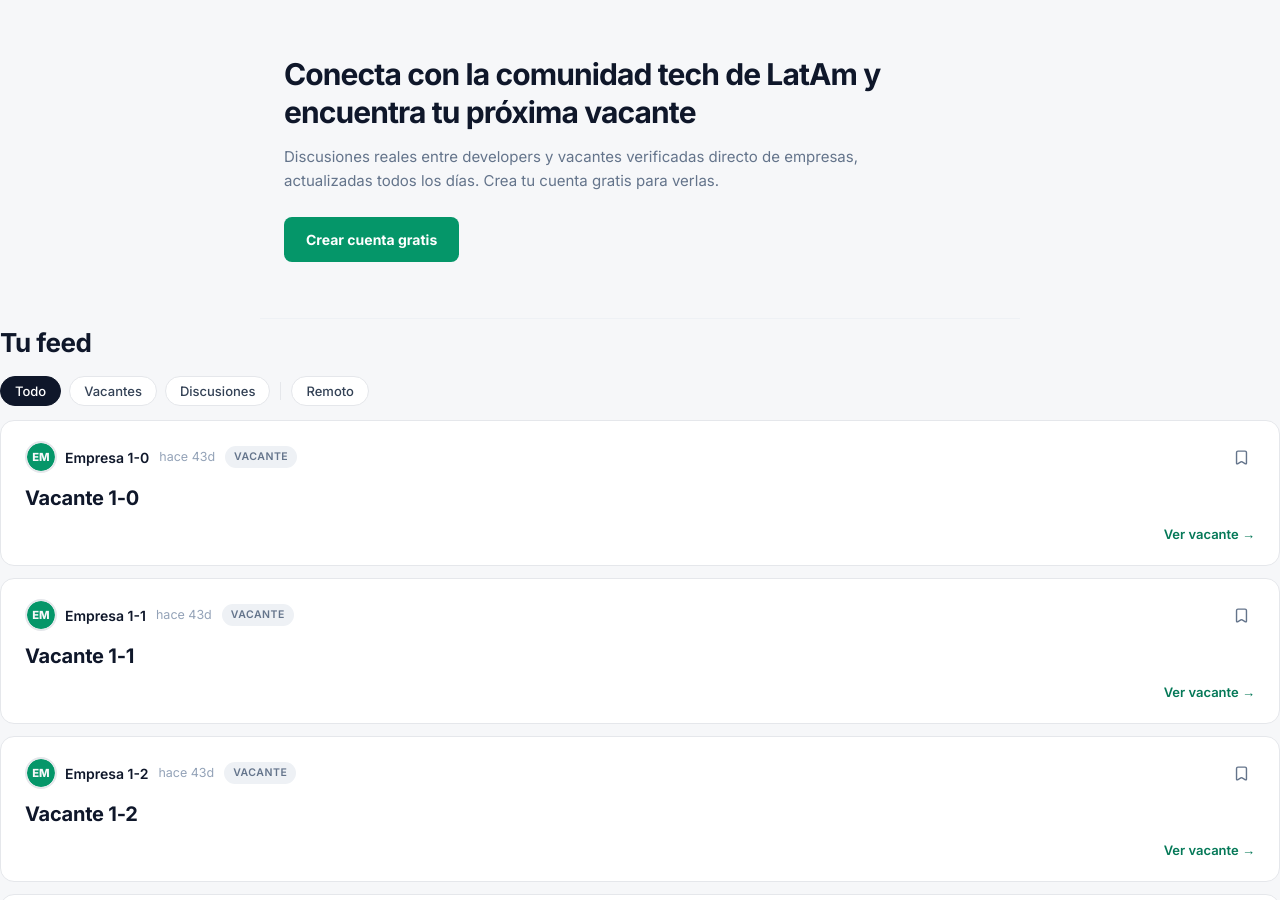
the Discusiones view › does not keep paging through hidden vacancies: it stops and says there is nothing, instead of loading forever
Expected: the heading "Vacante 1-0" is shown, x1=25 y1=486 x2=139 y2=510
Click the button "Discusiones".
click(218, 391)  # box x1=165 y1=376 x2=270 y2=406
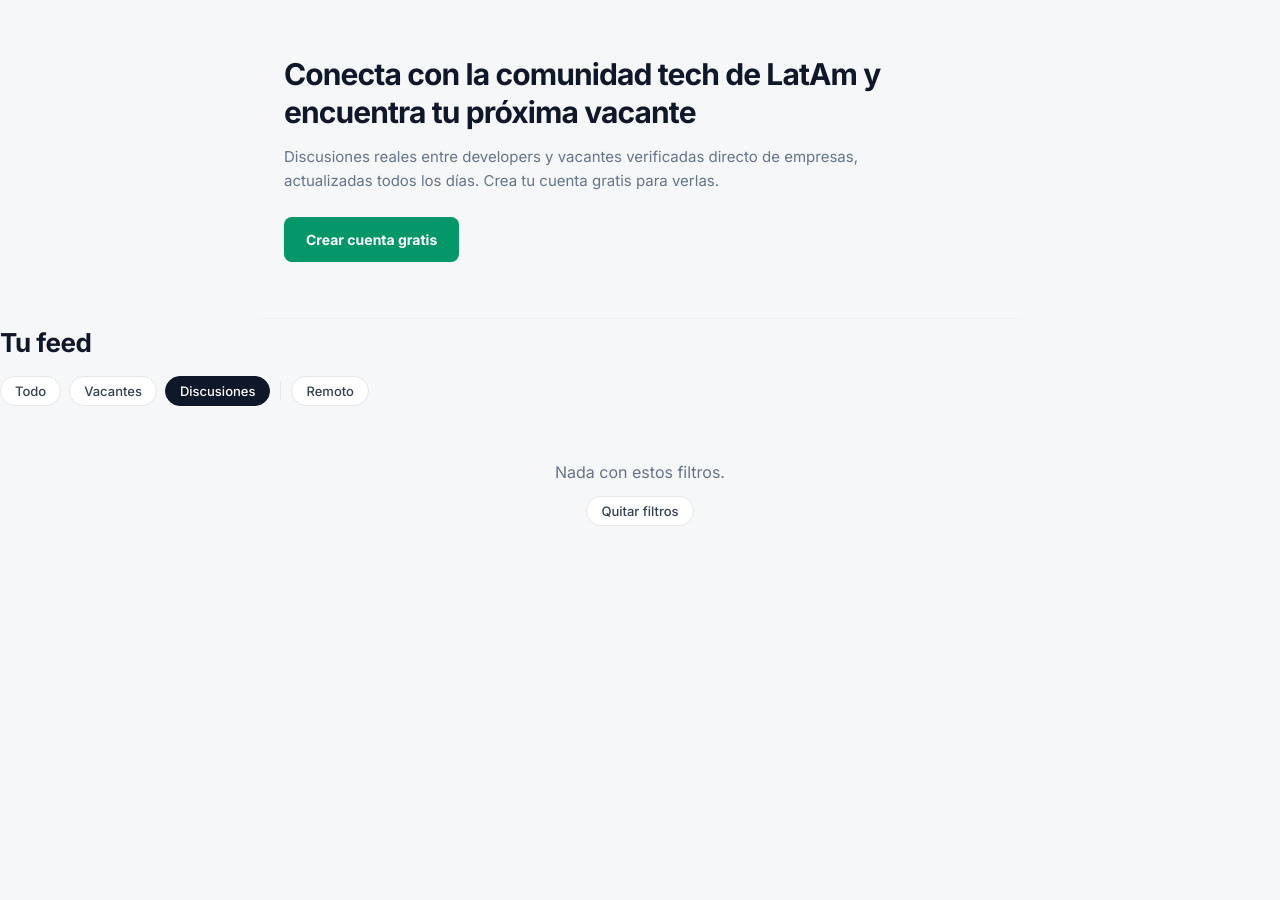
Result: the text "Nada con estos filtros." is shown at x1=555 y1=460 x2=725 y2=484
